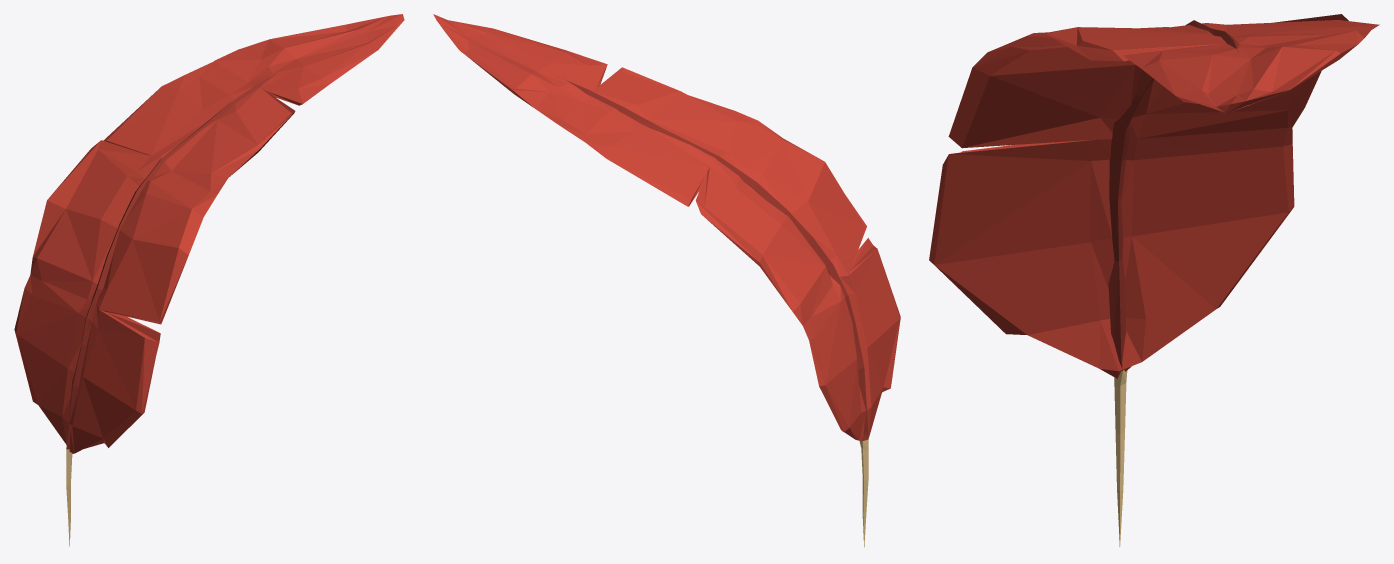
Rendered from SFM_AP_Feather.fbx.
3 renders of one model, left to right at view 1: azimuth 30°, elevation 25°; view 2: azimuth 150°, elevation 25°; view 3: azimuth 270°, elevation 25°, orthographic. The views are drawn at different scales.
Parts seen in each view (by area): view 1: SFM_AP_Feather; view 2: SFM_AP_Feather; view 3: SFM_AP_Feather.
Boxes of the visible parts, box(x1,y1,x2,y2) form: SFM_AP_Feather: box(14, 14, 404, 546); SFM_AP_Feather: box(433, 14, 900, 547); SFM_AP_Feather: box(929, 14, 1379, 546).
Size of the model in its own units: 33.47 by 36.41 by 19.41.
